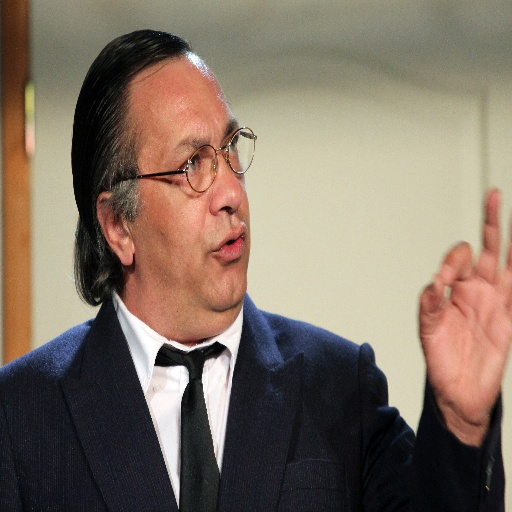hand: (418, 186, 511, 430)
